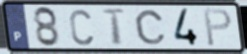4: (172, 7, 200, 48)
8: (32, 6, 61, 49)
C: (133, 9, 168, 46), (68, 8, 95, 47)
P: (202, 8, 233, 48)
T: (100, 7, 129, 46)
